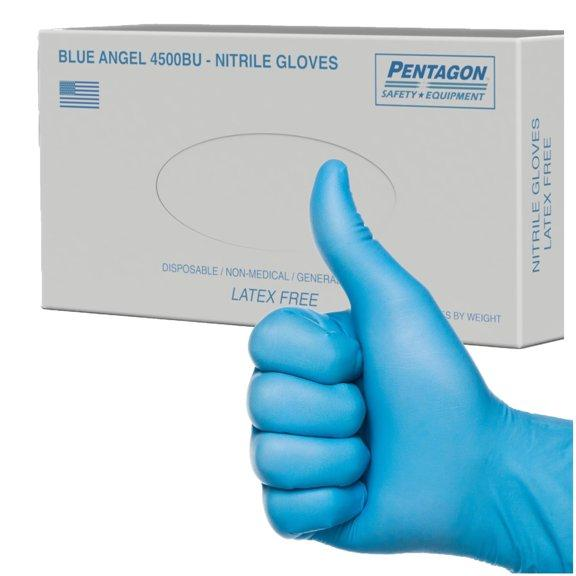gloves: (239, 145, 575, 572)
